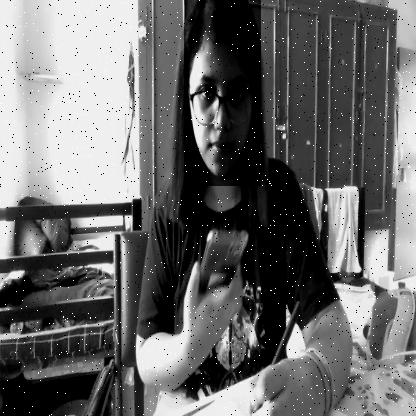Normal: (184, 0, 261, 186)
